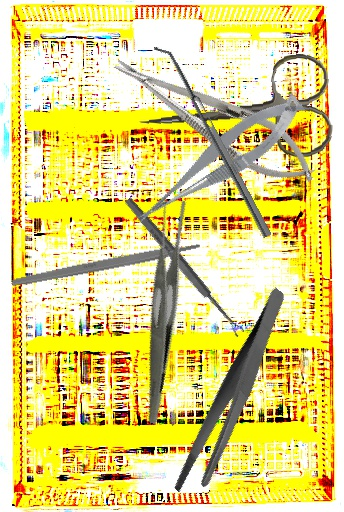Dressing Forceps: (134, 286, 333, 504), (78, 193, 244, 425)
Iris Scissors: (134, 51, 336, 173)
Micro Scissor: (121, 88, 316, 231)
Needle Holder: (103, 38, 328, 200)
Scalpel Handle: (10, 240, 202, 289)
Spatula Surgical: (153, 39, 272, 243)
Surgical Spoon: (122, 195, 246, 339)
